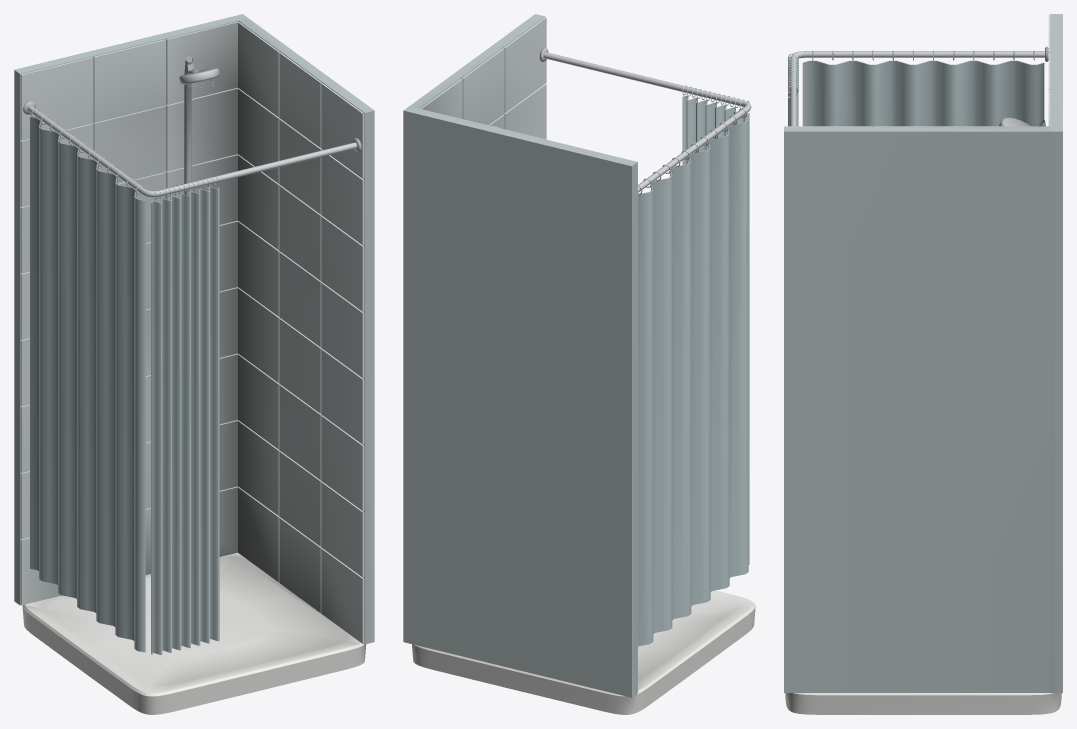
File: showerStall.glb
3 renders of one model, left to right at view 1: azimuth 30°, elevation 25°; view 2: azimuth 150°, elevation 25°; view 3: azimuth 270°, elevation 25°, orthographic. The views are drawn at different scales.
Visible parts, largest first — view 1: body, curtain; view 2: body, curtain; view 3: body, curtain.
Boxes of the visible parts, left/top/right/bottom form: body: left=14, top=14, right=374, bottom=714; curtain: left=151, top=175, right=219, bottom=654; body: left=403, top=14, right=755, bottom=714; curtain: left=682, top=85, right=749, bottom=564; body: left=784, top=14, right=1062, bottom=714; curtain: left=788, top=53, right=798, bottom=126.
Bounding box in the file's own units: 0.9 × 2.08 × 0.9.
